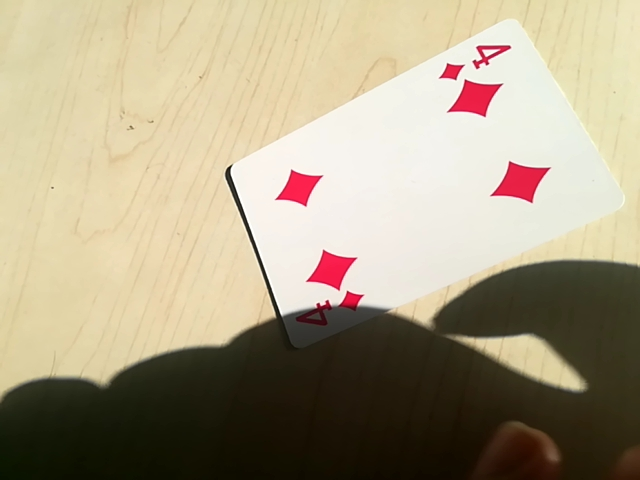fk 4: (289, 288, 369, 327), (436, 41, 512, 82)
